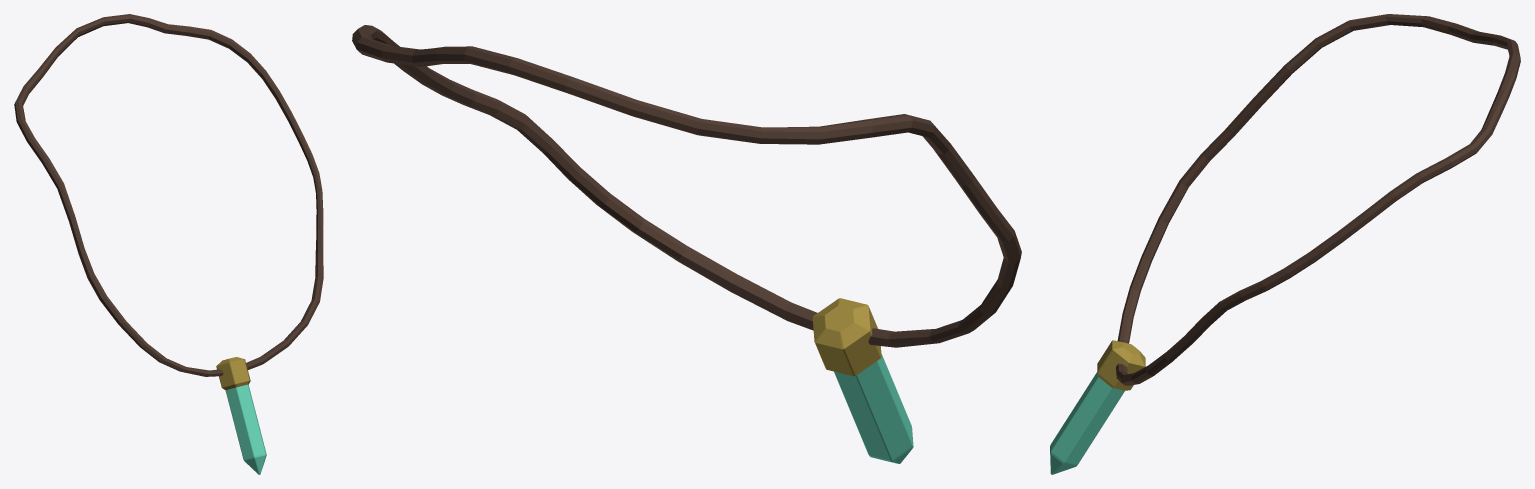
The model's file is Necklace3.glb.
The picture shows the model from 3 angles, left to right: view 1: azimuth 30°, elevation 25°; view 2: azimuth 150°, elevation 25°; view 3: azimuth 270°, elevation 25°; orthographic projection. The views are drawn at different scales.
Parts seen in each view (by area): view 1: Necklace3; view 2: Necklace3; view 3: Necklace3.
Boxes of the visible parts, left/top/right/bottom form: Necklace3: left=14, top=14, right=323, bottom=474; Necklace3: left=352, top=25, right=1021, bottom=463; Necklace3: left=1050, top=14, right=1520, bottom=474.
Bounding box in the file's own units: 0.8537 × 1.01 × 0.9993.
